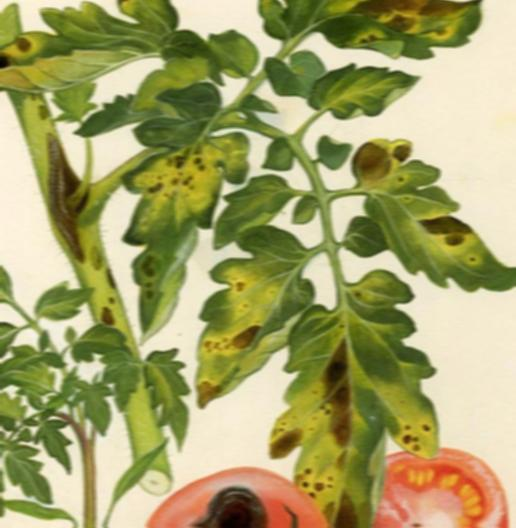Tomato Early blight leaf: (296, 280, 455, 528), (334, 128, 516, 301), (124, 103, 223, 335), (194, 231, 309, 404), (0, 0, 174, 109), (272, 0, 485, 56)
